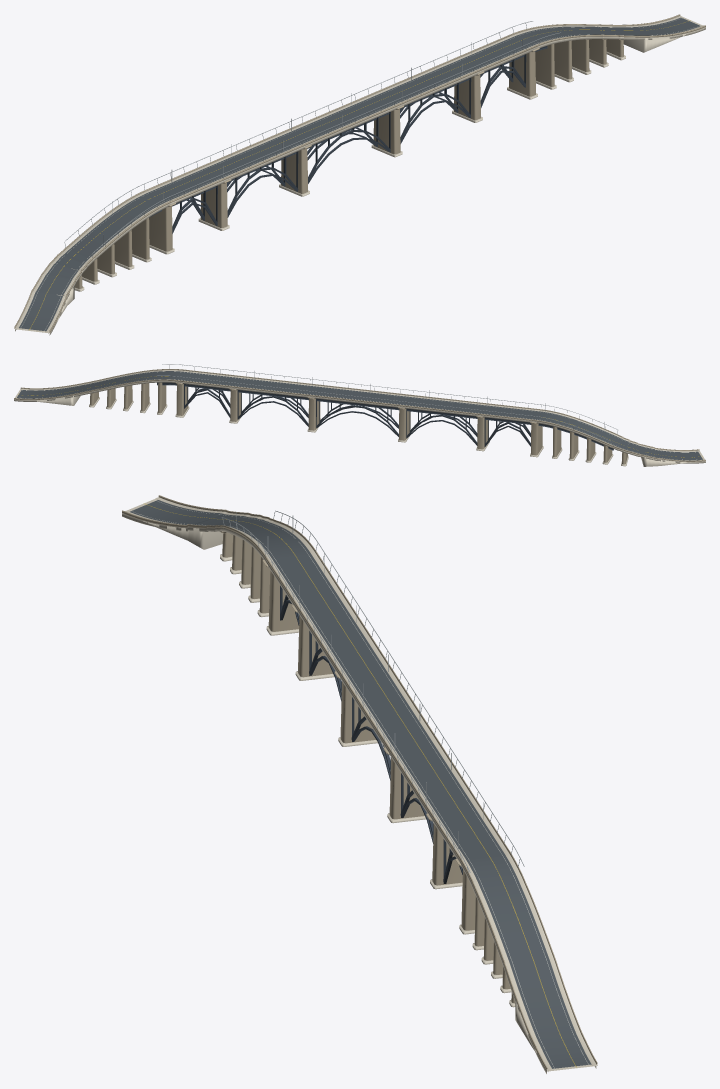
File: prince-edward-viaduct-far.glb
3 views of the same model, one above another, from view 1: azimuth 30°, elevation 25°; view 2: azimuth 150°, elevation 25°; view 3: azimuth 270°, elevation 25° (orthographic). The views are drawn at different scales.
Visible parts, largest first — view 1: prince-edward-viaduct-0-stone, prince-edward-viaduct-0-asphalt, prince-edward-viaduct-0-concrete, prince-edward-viaduct-0-steel, prince-edward-viaduct-0-rail; view 2: prince-edward-viaduct-0-stone, prince-edward-viaduct-0-asphalt, prince-edward-viaduct-0-concrete, prince-edward-viaduct-0-steel, prince-edward-viaduct-0-rail; view 3: prince-edward-viaduct-0-asphalt, prince-edward-viaduct-0-stone, prince-edward-viaduct-0-concrete, prince-edward-viaduct-0-steel, prince-edward-viaduct-0-rail, prince-edward-viaduct-0-paint.
Part boxes in pixels (x1,y1,x2,y2): prince-edward-viaduct-0-stone: [14, 14, 705, 332]; prince-edward-viaduct-0-asphalt: [19, 17, 700, 331]; prince-edward-viaduct-0-concrete: [14, 15, 705, 335]; prince-edward-viaduct-0-steel: [149, 46, 547, 233]; prince-edward-viaduct-0-rail: [64, 21, 560, 257]; prince-edward-viaduct-0-stone: [14, 369, 705, 464]; prince-edward-viaduct-0-asphalt: [17, 371, 702, 460]; prince-edward-viaduct-0-concrete: [14, 370, 705, 466]; prince-edward-viaduct-0-steel: [157, 382, 613, 450]; prince-edward-viaduct-0-rail: [155, 364, 617, 444]; prince-edward-viaduct-0-asphalt: [130, 500, 591, 1068]; prince-edward-viaduct-0-stone: [122, 495, 597, 1070]; prince-edward-viaduct-0-concrete: [122, 497, 597, 1073]; prince-edward-viaduct-0-steel: [280, 585, 462, 883]; prince-edward-viaduct-0-rail: [221, 510, 524, 872]; prince-edward-viaduct-0-paint: [129, 501, 589, 1069].
Bounding box in the file's own units: 675 × 51.88 × 237.
